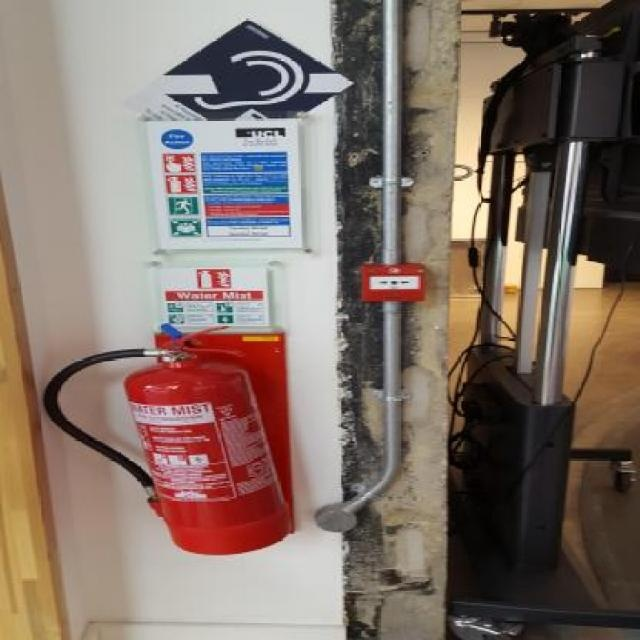fire extinguisher: (44, 327, 291, 558)
